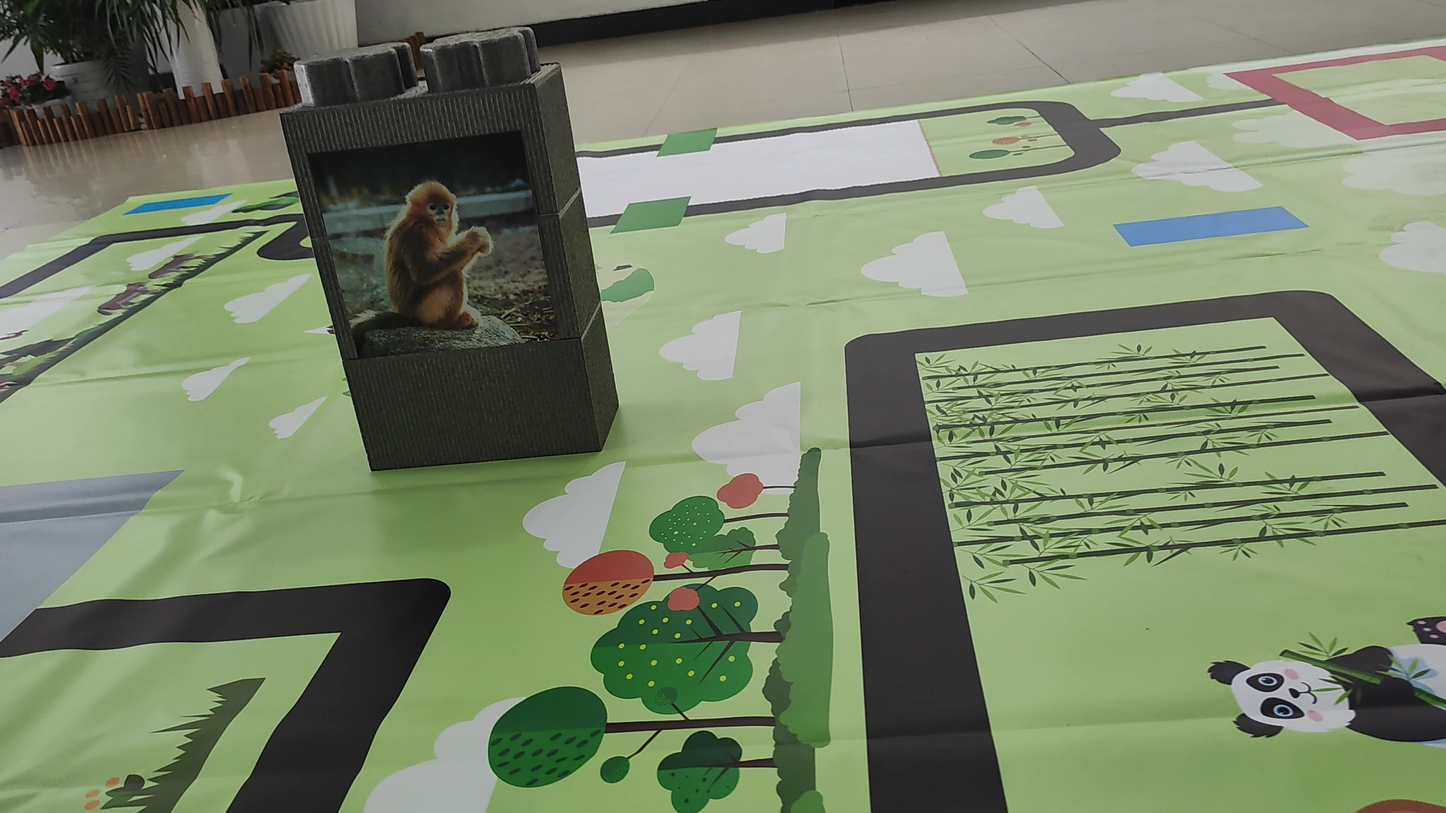monkey: (317, 147, 552, 358)
